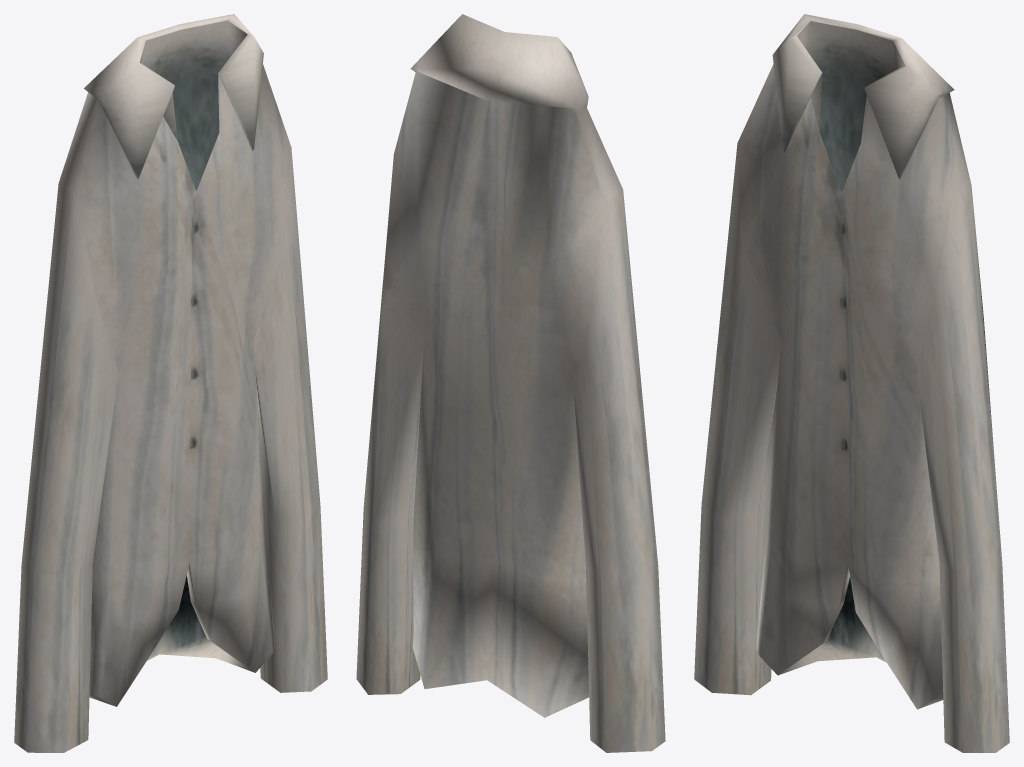
The model's file is shirt_hanging_white.dae.
3 renders of one model, left to right at view 1: azimuth 30°, elevation 25°; view 2: azimuth 150°, elevation 25°; view 3: azimuth 330°, elevation 25°, orthographic. The views are drawn at different scales.
Parts seen in each view (by area): view 1: pCube1; view 2: pCube1; view 3: pCube1.
Part boxes in pixels (x1,y1,x2,y2): pCube1: (14, 14, 327, 752); pCube1: (356, 14, 665, 752); pCube1: (694, 14, 1009, 752).
Size of the model in its own units: 0.4676 by 1.03 by 0.144.
